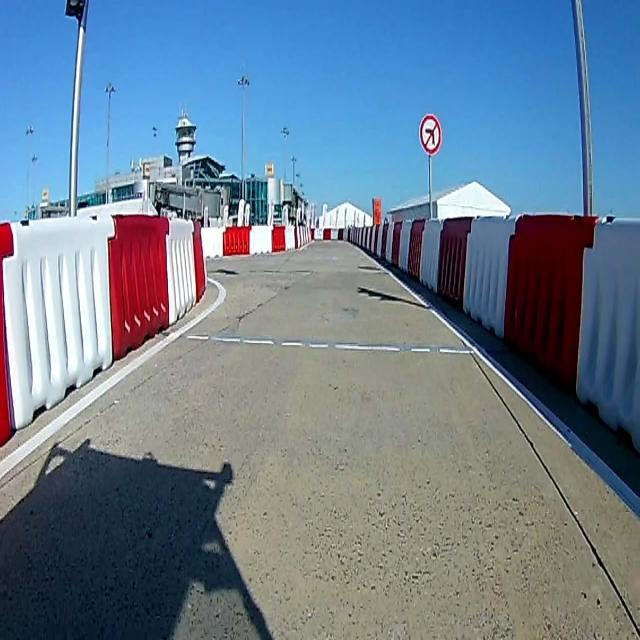soladonulmez: (420, 115, 442, 154)
